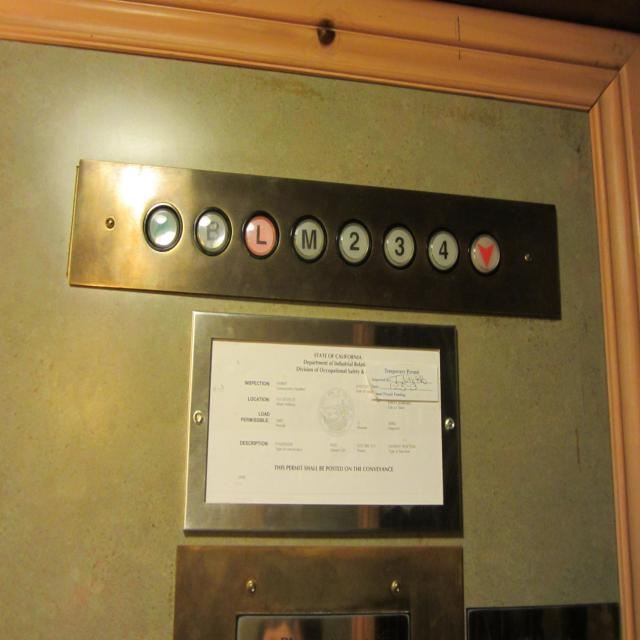2: (334, 218, 372, 266)
3: (381, 222, 417, 270)
4: (424, 226, 460, 274)
B: (192, 206, 232, 256)
L: (241, 209, 280, 260)
M: (289, 213, 327, 264)
down: (467, 229, 501, 277)
up: (142, 200, 183, 252)
